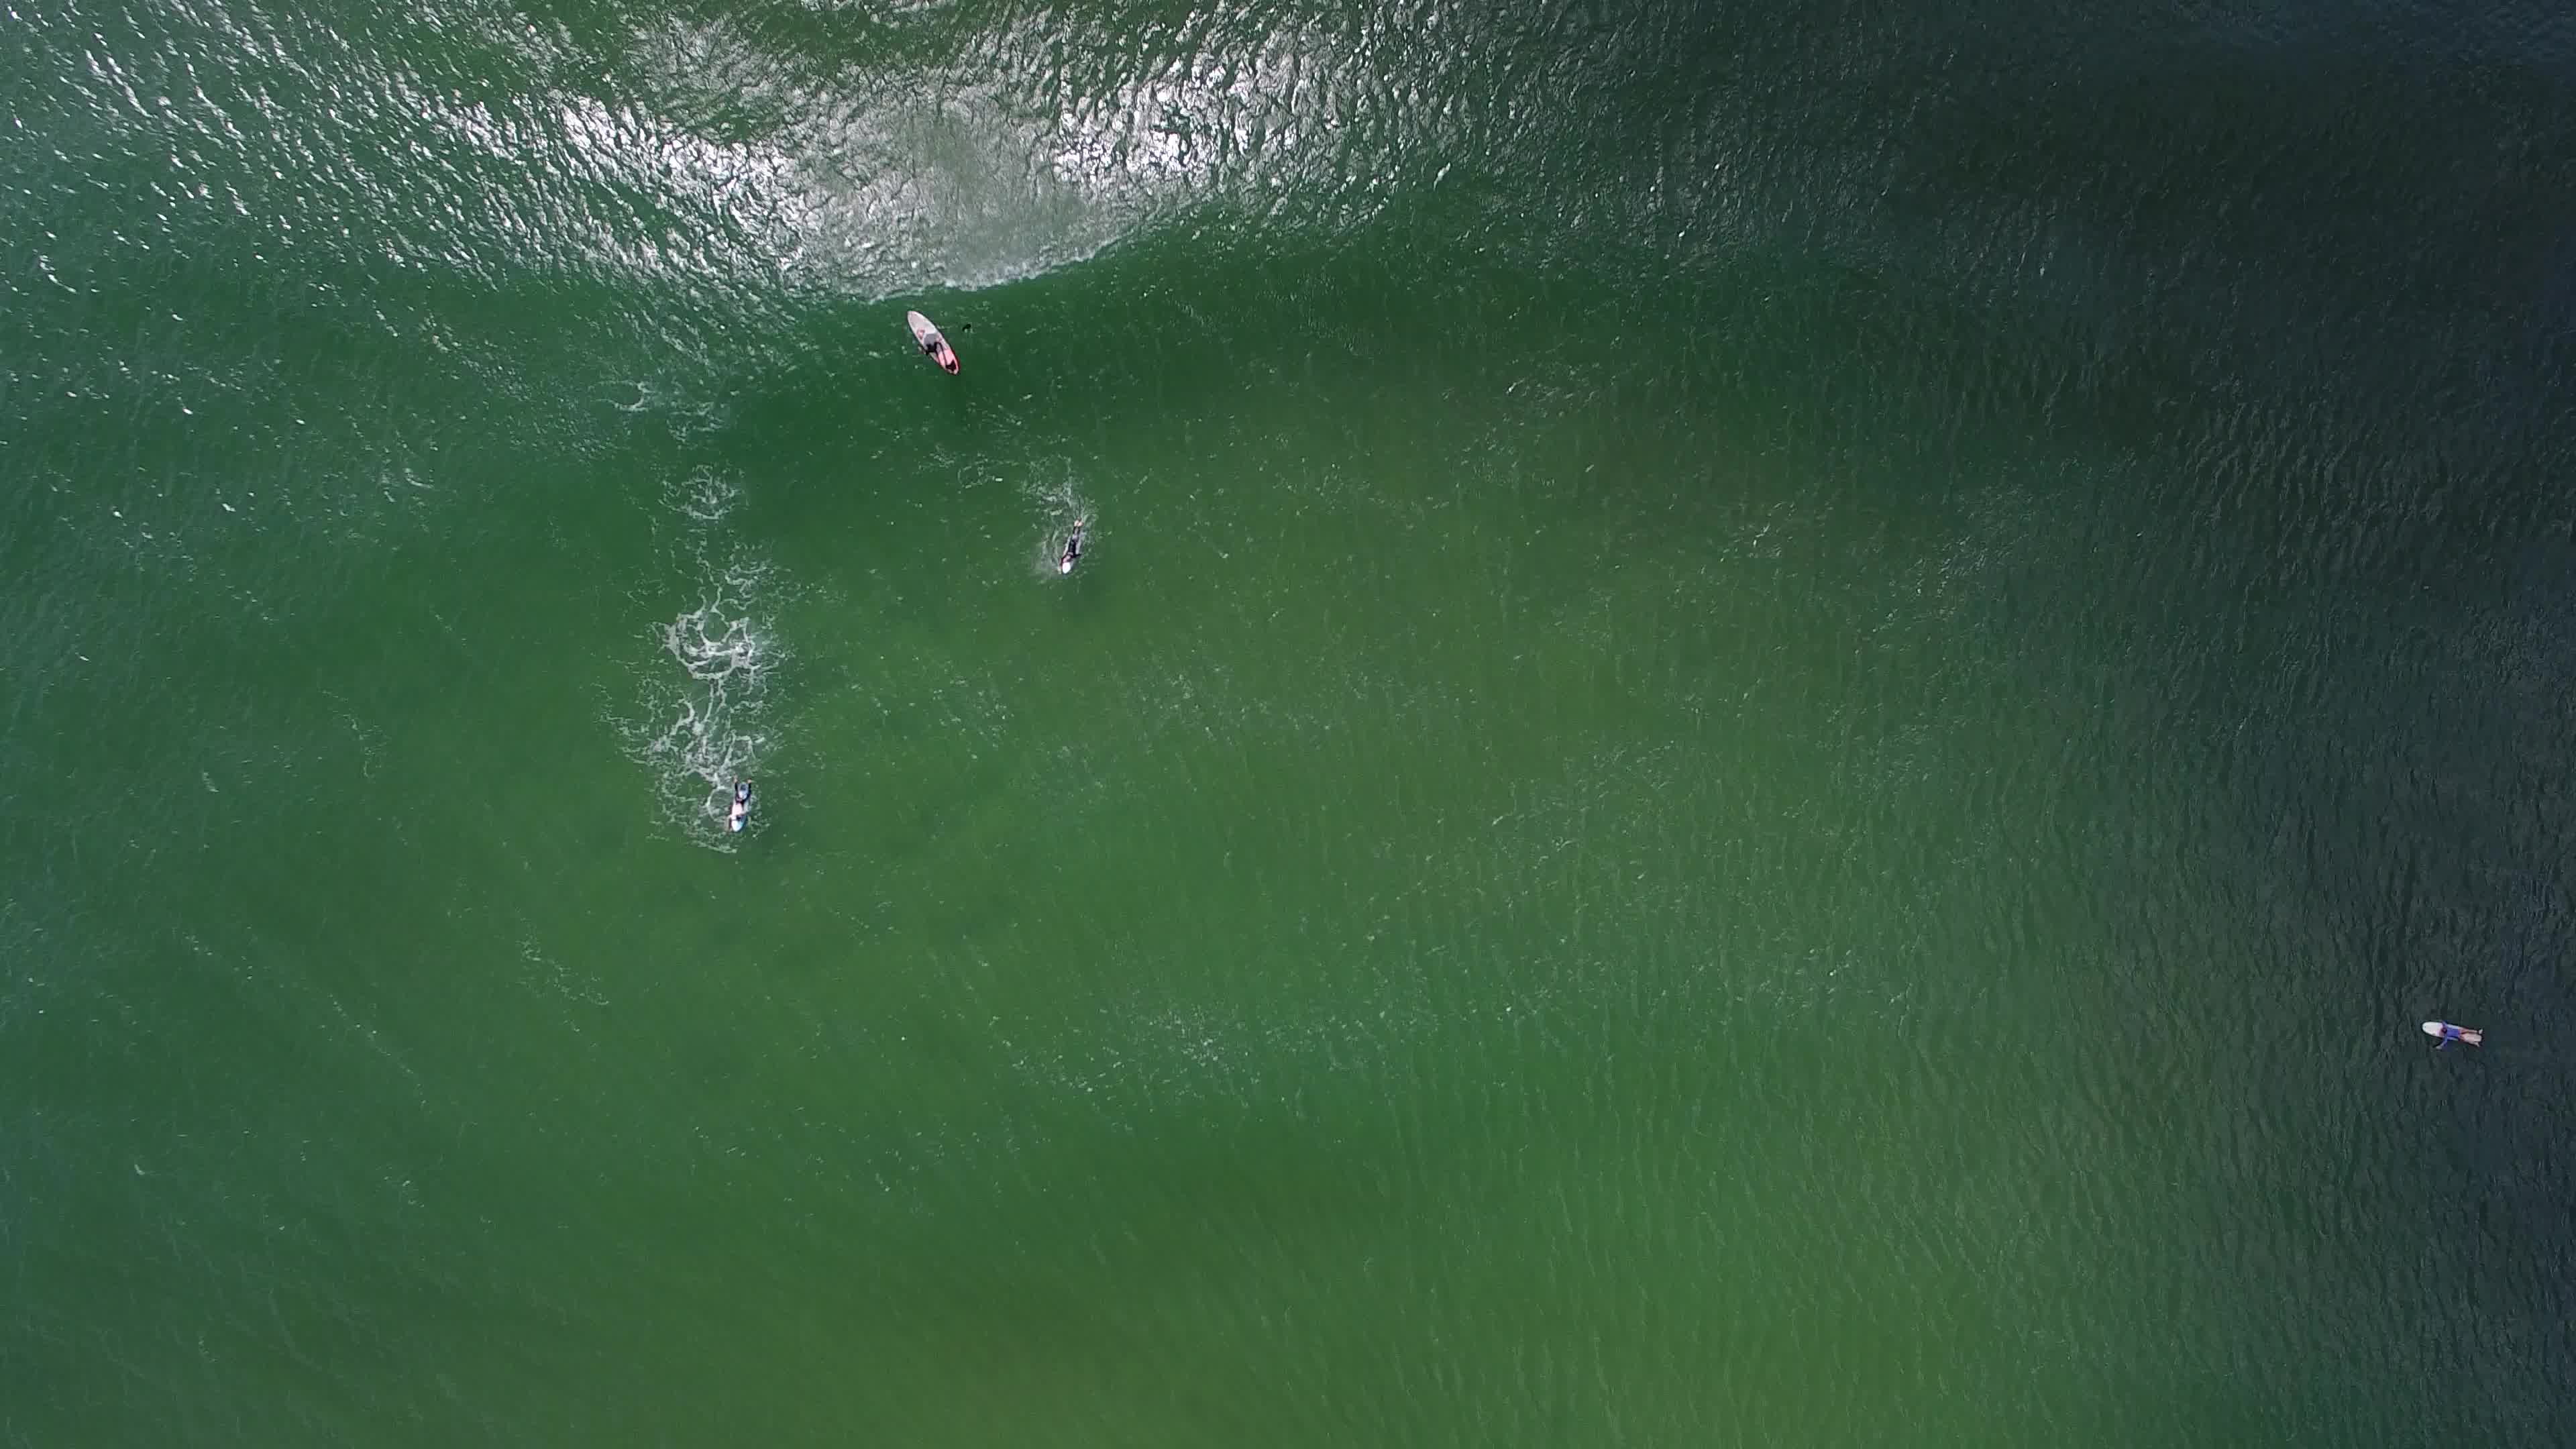surfer: (893, 306, 971, 380), (715, 761, 768, 840), (2415, 1014, 2495, 1062), (1047, 508, 1097, 579)
